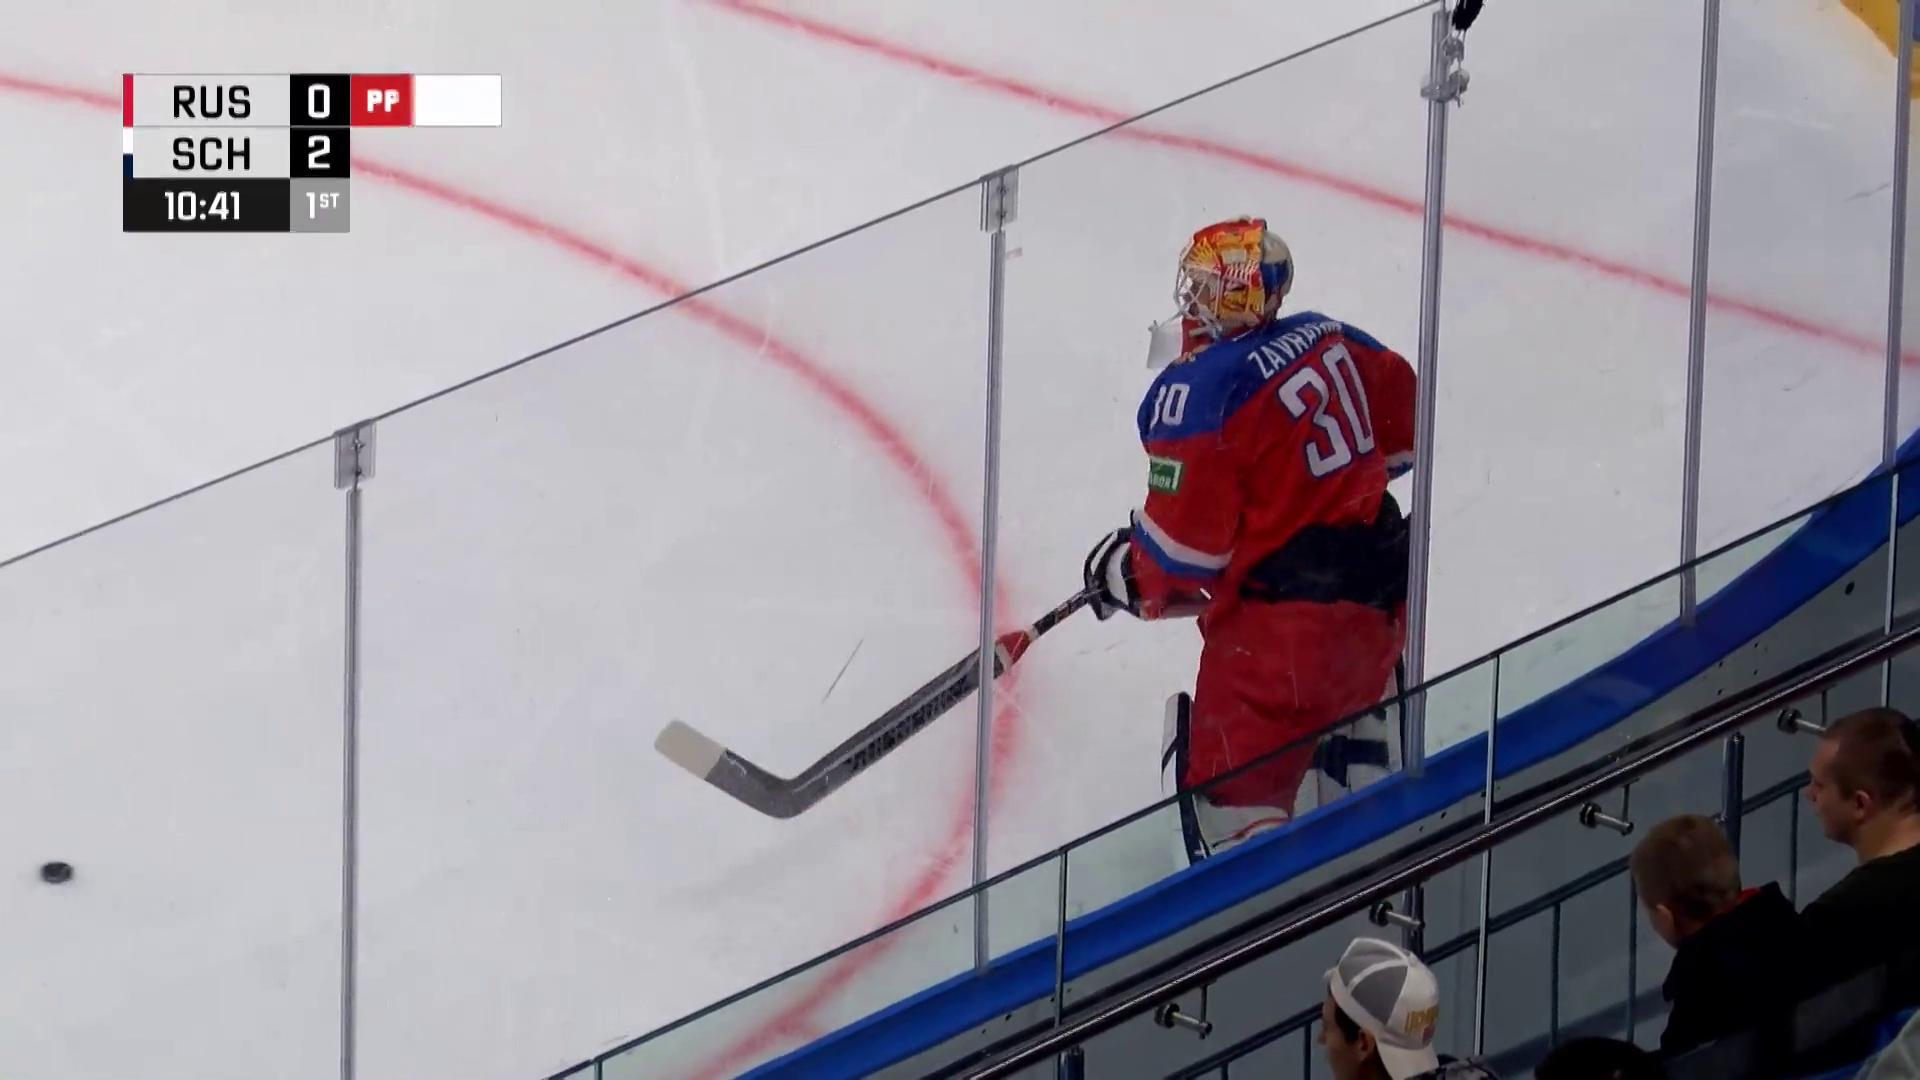ball: (40, 861, 74, 885)
